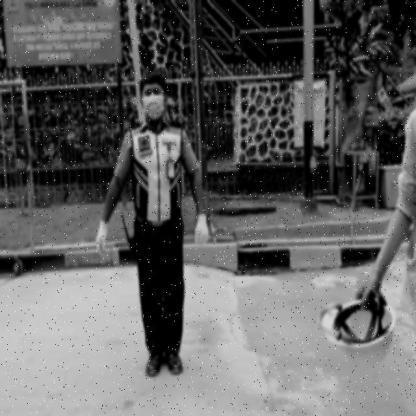boots: (142, 351, 165, 380), (165, 352, 184, 378)
gloves: (96, 218, 112, 258), (193, 213, 210, 249)
helmet: (316, 292, 402, 364)
mask: (142, 98, 165, 119)
